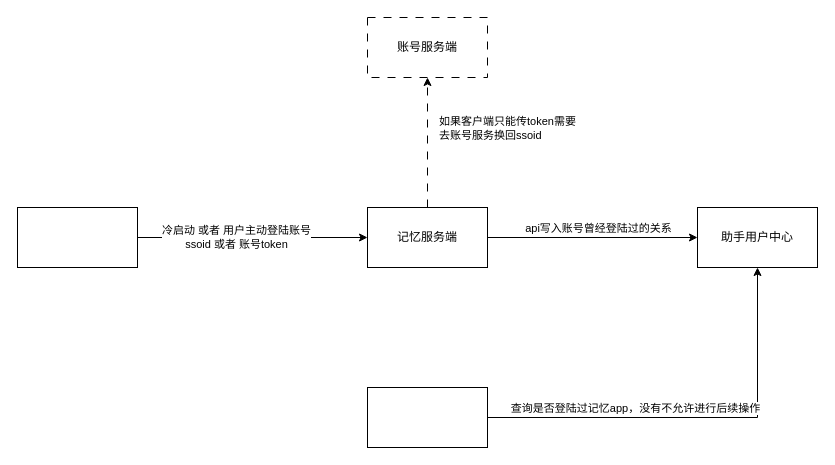
Image size: 835x465. Some labels were removed from this diagram. Here are the shapes that lost their labels. From the top down, the box of each, then its label:
(16, 206, 138, 268): 客户端
(366, 386, 488, 448): 记忆web页面
